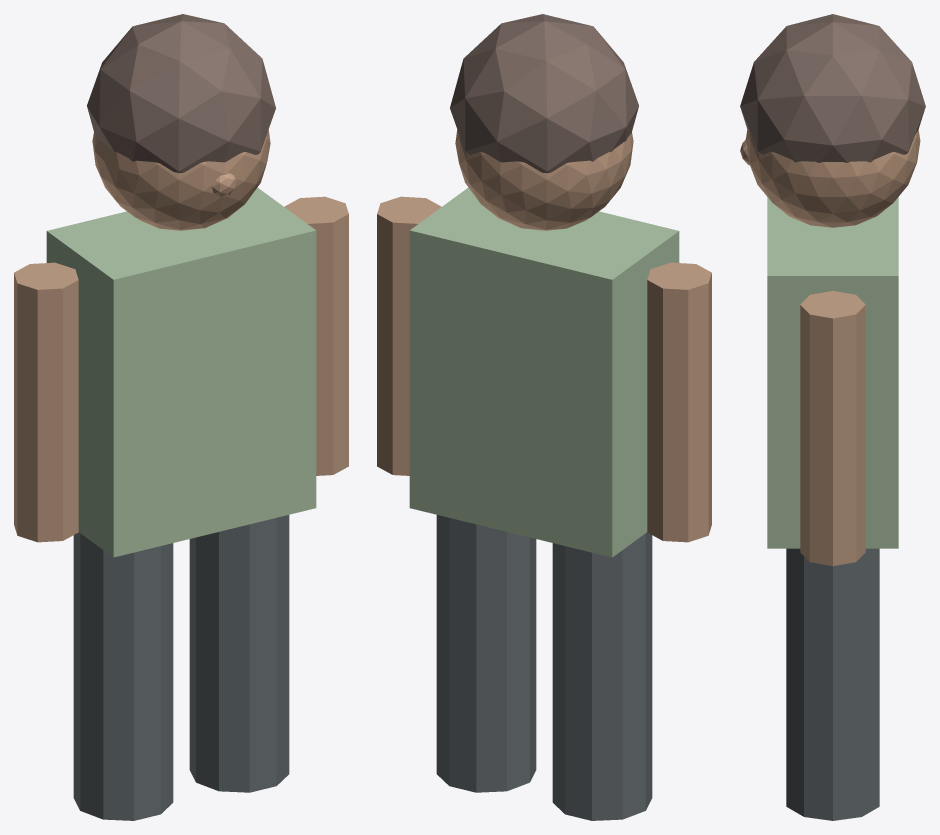
Rendered from sim_elder_athletic.glb.
3 renders of one model, left to right at view 1: azimuth 30°, elevation 25°; view 2: azimuth 150°, elevation 25°; view 3: azimuth 270°, elevation 25°, orthographic.
Visible parts, largest first — view 1: p002, p000, p001, p006, p003, p004, p005; view 2: p002, p000, p001, p006, p003, p004, p005; view 3: p002, p001, p006, p004, p005.
Boxes of the visible parts, box(x1,y1,x2,y2) form: p002: box(46, 187, 316, 557); p000: box(73, 532, 173, 820); p001: box(189, 515, 289, 792); p006: box(87, 14, 275, 172); p003: box(14, 262, 78, 542); p004: box(284, 196, 348, 475); p005: box(92, 130, 270, 230); p002: box(409, 187, 679, 557); p000: box(552, 532, 652, 820); p001: box(436, 515, 536, 792); p006: box(450, 14, 638, 172); p003: box(647, 262, 711, 542); p004: box(377, 196, 441, 475); p005: box(455, 130, 633, 230); p002: box(767, 197, 898, 548); p001: box(786, 548, 879, 820); p006: box(740, 14, 925, 162); p004: box(800, 291, 865, 565); p005: box(745, 130, 920, 227).
Bounding box in the file's own units: 0.68 × 1.52 × 0.34.
